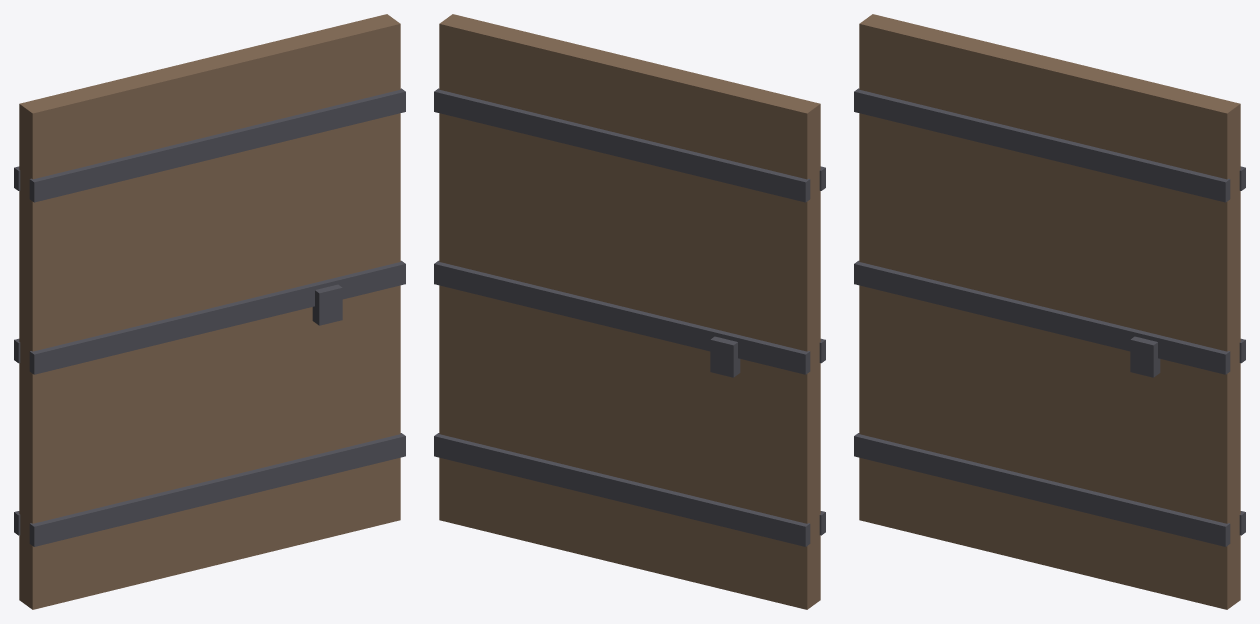
File: academy_door.glb
The picture shows the model from 3 angles, left to right: view 1: azimuth 30°, elevation 25°; view 2: azimuth 150°, elevation 25°; view 3: azimuth 330°, elevation 25°; orthographic projection.
Parts seen in each view (by area): view 1: DoorWoodSlab, DoorIronHardware; view 2: DoorWoodSlab, DoorIronHardware; view 3: DoorWoodSlab, DoorIronHardware.
Boxes of the visible parts, bbox=[...] form: DoorWoodSlab: bbox=[19, 14, 400, 609]; DoorIronHardware: bbox=[14, 88, 405, 546]; DoorWoodSlab: bbox=[439, 14, 820, 609]; DoorIronHardware: bbox=[434, 88, 825, 546]; DoorWoodSlab: bbox=[859, 14, 1240, 609]; DoorIronHardware: bbox=[854, 88, 1245, 546].
Bounding box in the file's own units: 1.92 × 2.45 × 0.26.
